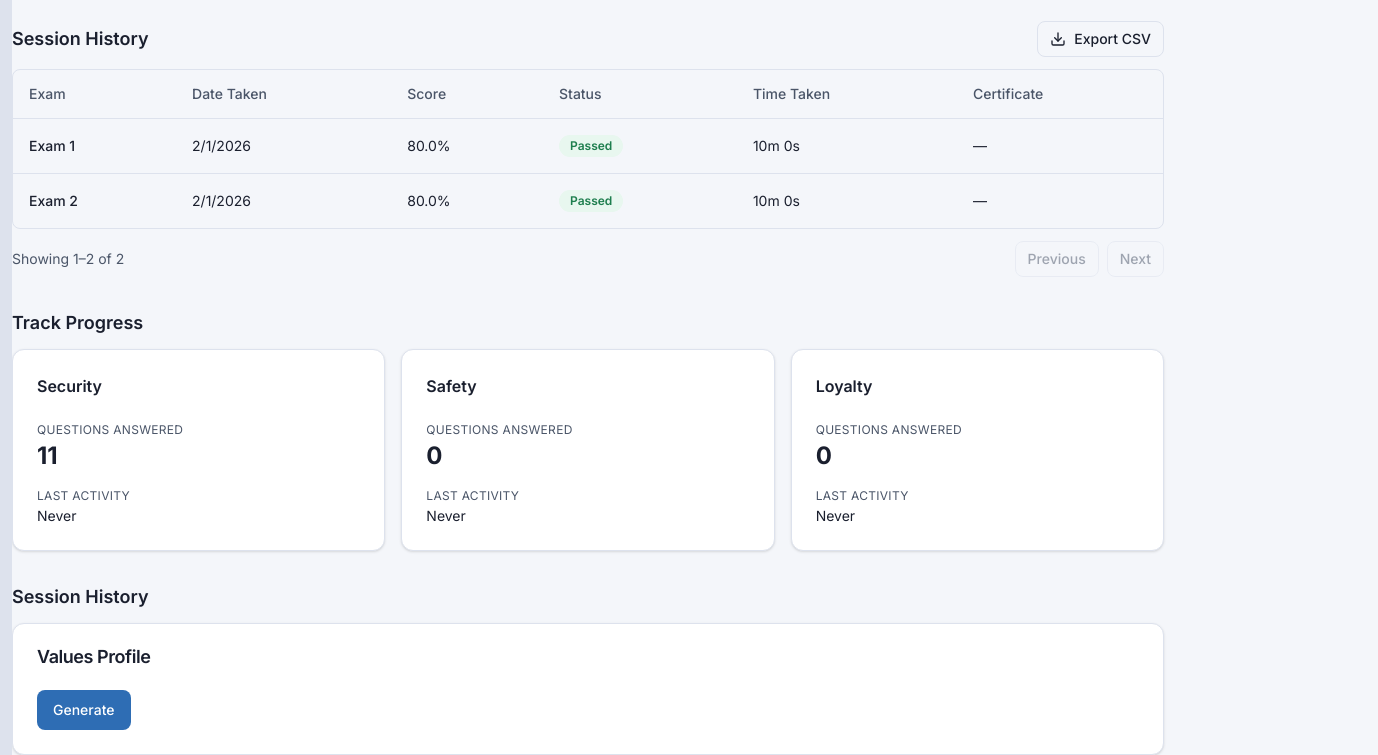
it: EmployeeRecordPage (FR-BB58) › lets admins generate a values profile narrative for loyalty sessions (FR-BB75)
(page scrolled)
Expected: the number of headings "Values Profile" is 1, left=37, top=646, right=150, bottom=666
Click the button "Generate" at [84, 710], box left=37, top=690, right=130, bottom=730
(page scrolled)
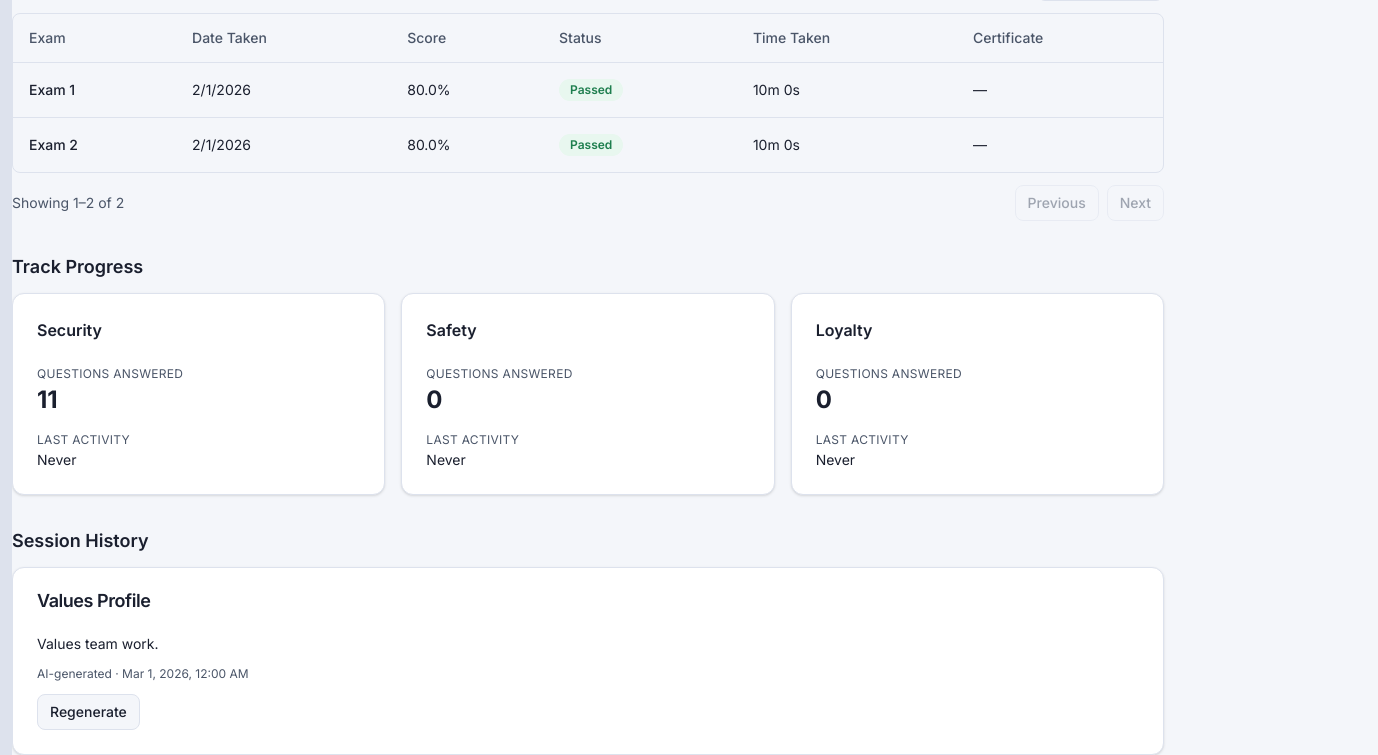
Now the text "Values team work." is shown, box left=37, top=634, right=159, bottom=652
Now the button "Regenerate" is shown, box left=37, top=694, right=140, bottom=730
